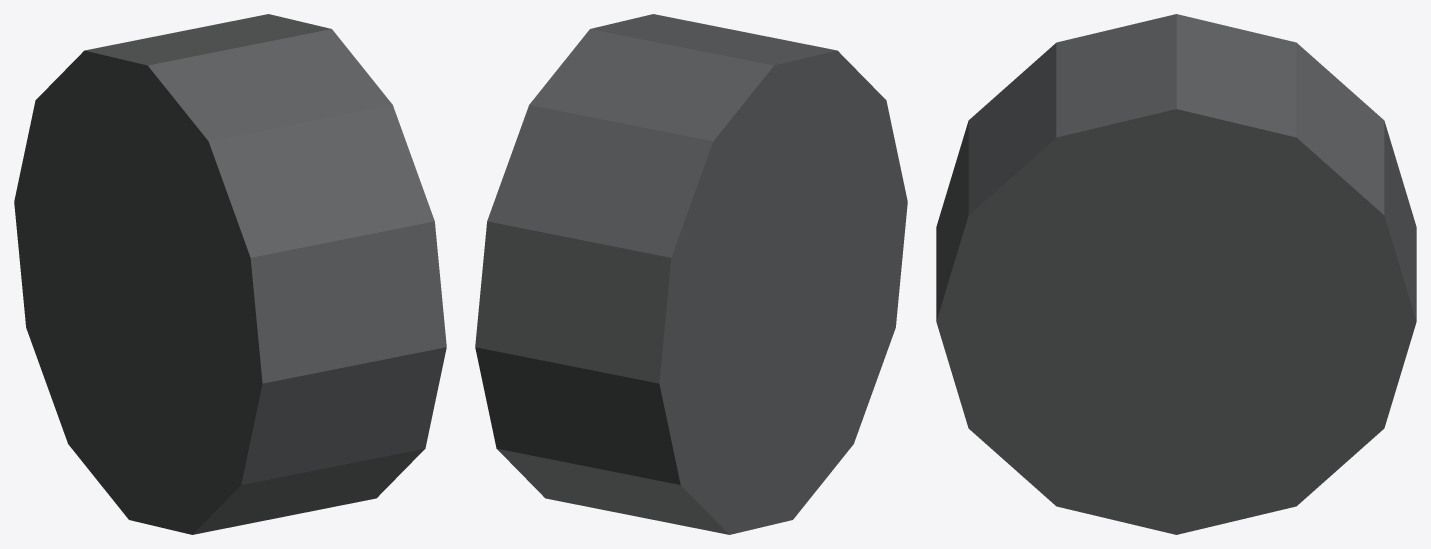
The model's file is wheel.fbx.
3 views of the same model, side by side, from view 1: azimuth 30°, elevation 25°; view 2: azimuth 150°, elevation 25°; view 3: azimuth 270°, elevation 25° (orthographic). The views are drawn at different scales.
Parts seen in each view (by area): view 1: cylinder; view 2: cylinder; view 3: cylinder.
Part boxes in pixels (<box>): cylinder: <box>14,14,446,534</box>; cylinder: <box>475,14,907,534</box>; cylinder: <box>936,14,1416,534</box>.
Bounding box in the file's own units: 4.13 × 8.91 × 8.75.
Materials: 1 (1 with a texture image).
